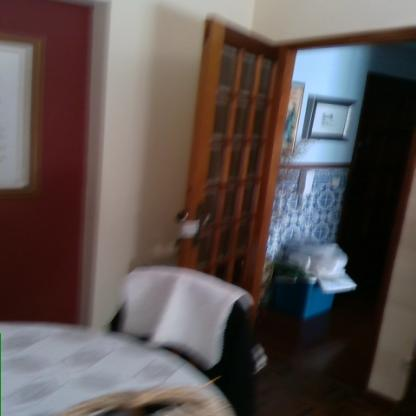open: (168, 8, 415, 415)
